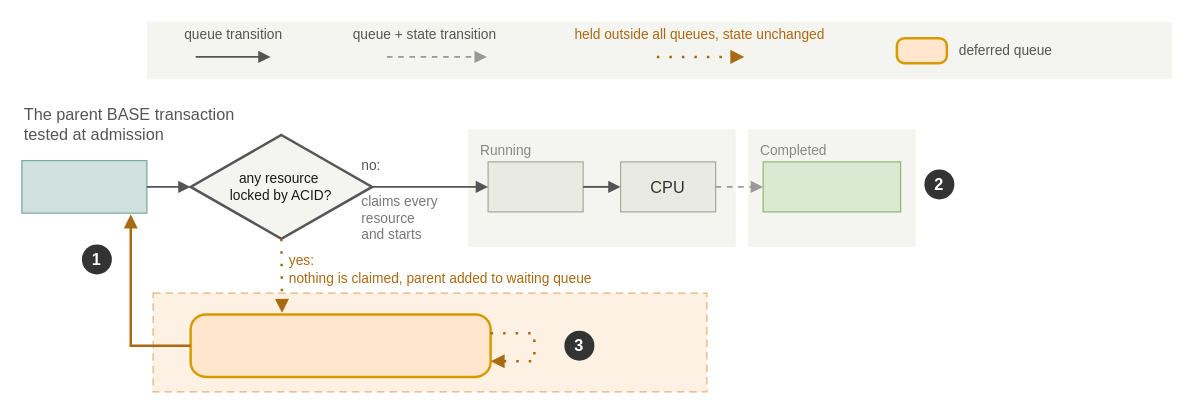
Image size: 1204x414. Some labels were removed from this diagram. The centre of each missing label's shape, as x and y in pixels:
"COMPLETE" goes at point 831,186.
"DEFERRED PARENT QUEUE nothing claimed, outside the execution queues" goes at point 340,345.
"IO" goes at point 535,186.
"PENDING" goes at point 84,186.
